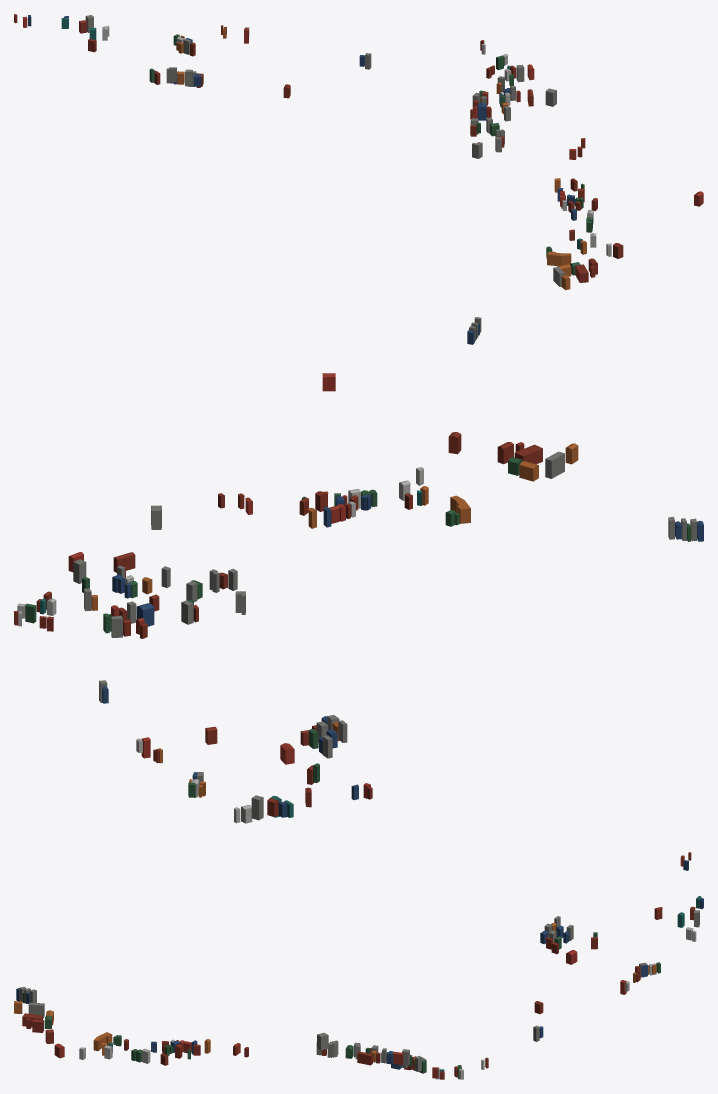
The model's file is near-15-27362-14878.b6ad7591.glb.
The picture shows the model from 3 angles, top to bottom: view 1: azimuth 30°, elevation 25°; view 2: azimuth 150°, elevation 25°; view 3: azimuth 270°, elevation 25°; orthographic projection. The views are drawn at different scales.
Size of the model in its own units: 709 by 182 by 1173.
